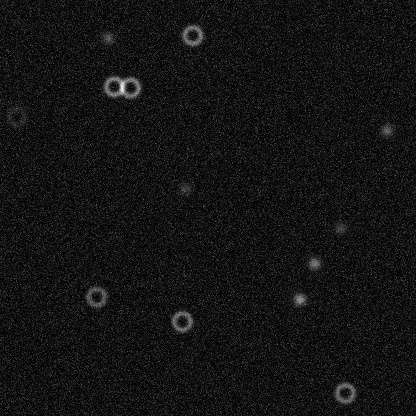Ring: (4, 104, 28, 128), (117, 75, 141, 99), (180, 23, 204, 47), (332, 380, 356, 404), (84, 284, 108, 308), (169, 309, 193, 333), (101, 74, 125, 98)
Spot: (177, 180, 193, 196), (378, 122, 394, 138), (331, 220, 347, 236), (99, 29, 115, 45), (291, 291, 307, 307), (306, 255, 322, 271)
